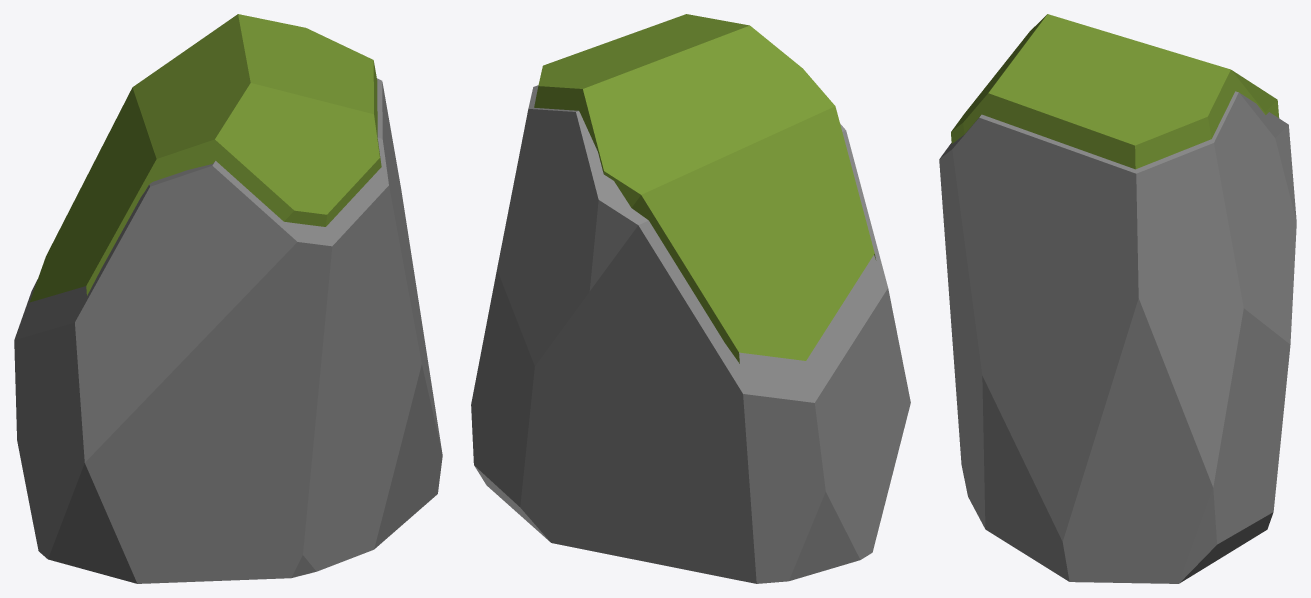
The model's file is Stone_5_moss.fbx.
3 views of the same model, side by side, from view 1: azimuth 30°, elevation 25°; view 2: azimuth 150°, elevation 25°; view 3: azimuth 270°, elevation 25° (orthographic). The views are drawn at different scales.
Parts seen in each view (by area): view 1: Stone_5_moss; view 2: Stone_5_moss; view 3: Stone_5_moss.
Boxes of the visible parts, box(x1,y1,x2,y2) form: Stone_5_moss: box(14, 14, 442, 583); Stone_5_moss: box(471, 14, 910, 583); Stone_5_moss: box(939, 14, 1296, 583).
Bounding box in the file's own units: 83.72 × 102 × 70.29.
